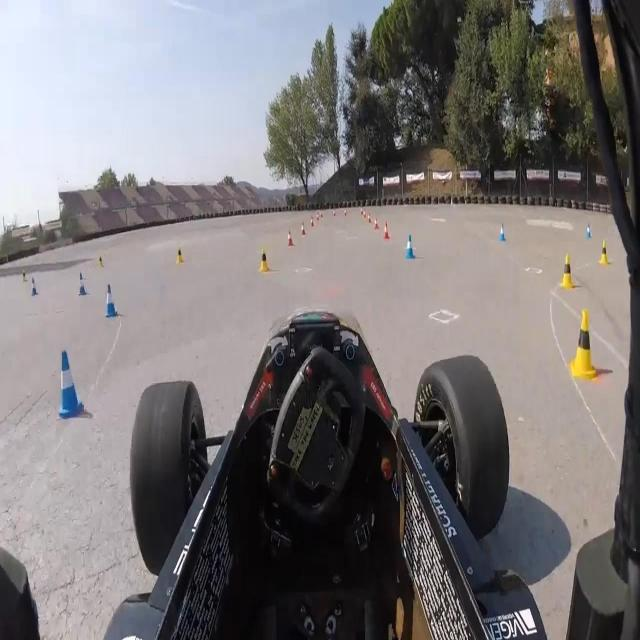blue_cone: (54, 349, 87, 421), (103, 282, 118, 320), (405, 231, 417, 261), (77, 271, 89, 298), (498, 221, 506, 245), (30, 276, 38, 297), (584, 221, 592, 239)
orange_cone: (382, 220, 390, 240), (287, 230, 295, 248), (373, 218, 380, 231), (301, 222, 307, 236), (310, 216, 315, 229), (368, 213, 372, 224), (316, 212, 320, 222), (360, 206, 364, 216), (364, 210, 366, 219)
yellow_cone: (568, 306, 600, 380), (558, 252, 576, 292), (599, 239, 610, 268), (258, 248, 270, 273), (176, 245, 184, 265)
